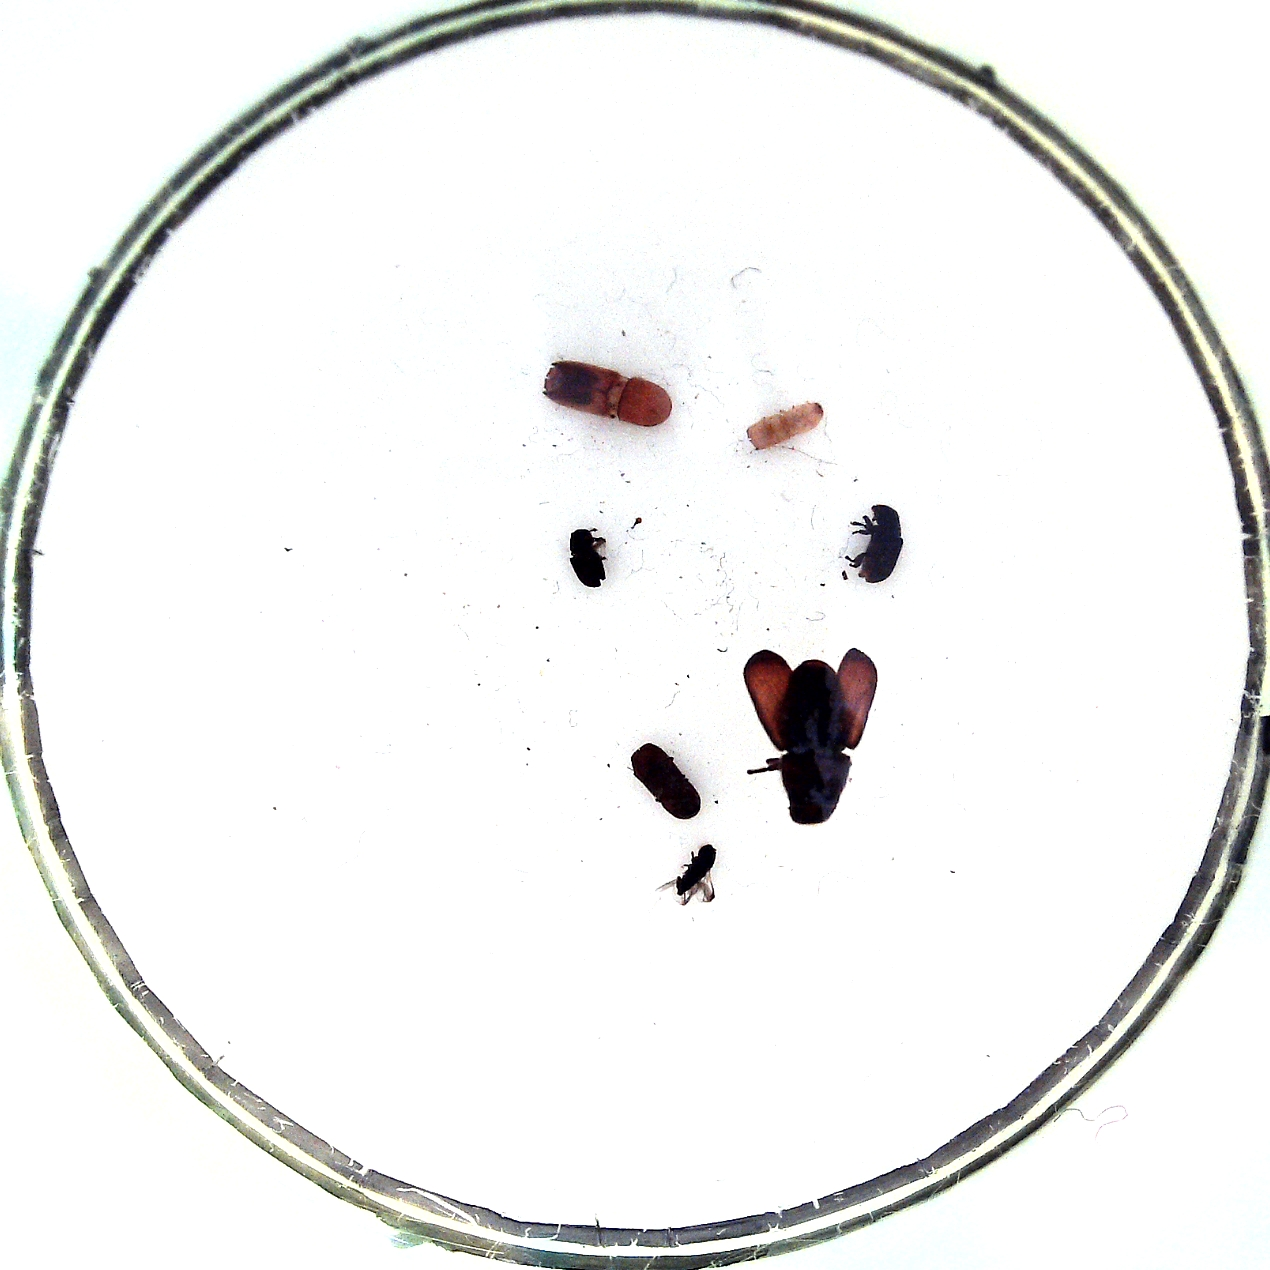Boerner: (541, 362, 671, 427)
Leconte: (776, 659, 852, 825)
armandi: (856, 505, 904, 584)
coleoptera: (568, 529, 606, 587)
linnaeus: (630, 742, 701, 820), (745, 401, 825, 451), (675, 844, 716, 896)
